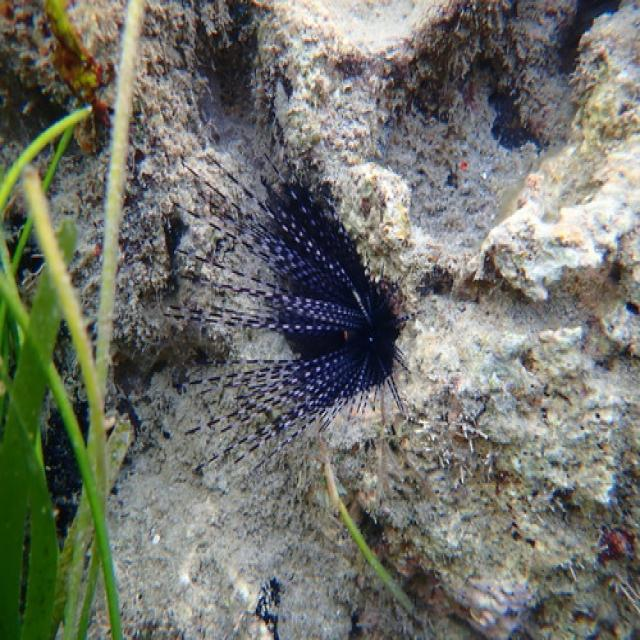Urchin: (161, 154, 419, 454)
